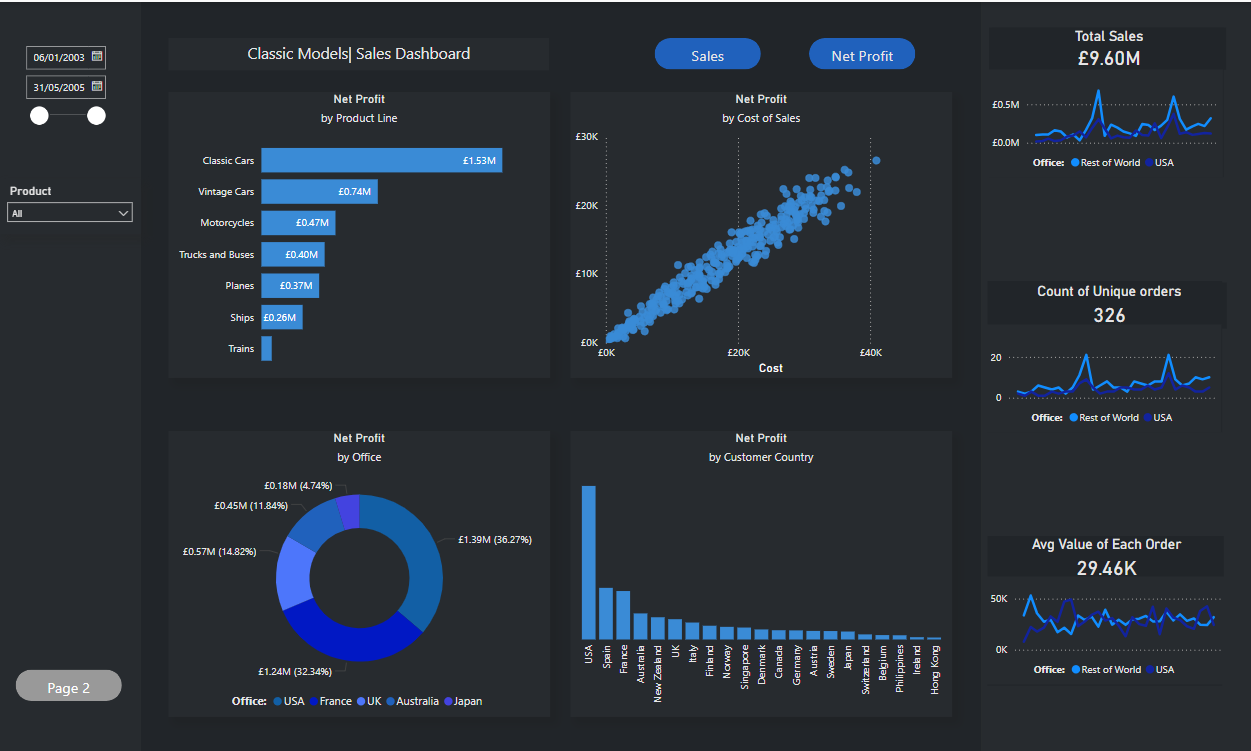

Layout of this report page (visuals, bound fields, positions):
{"tool":"powerbi","page":{"name":"Sales Overview Page 1","canvas":[1500,900],"ordinal":0},"visuals":[{"type":"shape","box":[0,0,170,900],"z":0},{"type":"shape","box":[1177.7,0,322.3,898.8],"z":1000},{"type":"shape","box":[1187,31,281.3,179.4],"z":2000},{"type":"shape","box":[1184.8,640,281.3,179.4],"z":3000},{"type":"shape","box":[1184.8,334.4,281.3,181.6],"z":4000},{"type":"card","title":"Total Sales","fields":{"Values":["Sum(classicmodels sale_data_for_powebi.sales_value)"]},"box":[1190,30.6,280.4,50.3],"z":5000},{"type":"card","title":"Avg Value of Each Order","fields":{"Values":["classicmodels sale_data_for_powebi.Average sales value per order"]},"box":[1187,640,281.3,55.4],"z":6000},{"type":"card","title":"Count of Unique orders","fields":{"Values":["Count(classicmodels sale_data_for_powebi.orderNumber)"]},"box":[1189.2,336.6,281.3,55.4],"z":7000},{"type":"lineChart","fields":{"Y":["Sum(classicmodels sale_data_for_powebi.sales_value)"],"Category":["classicmodels sale_data_for_powebi.orderDate.Variation.Date Hierarchy.Year","classicmodels sale_data_for_powebi.orderDate.Variation.Date Hierarchy.Quarter","classicmodels sale_data_for_powebi.orderDate.Variation.Date Hierarchy.Month"],"Series":["classicmodels sale_data_for_powebi.Office Grouped"]},"box":[1184.6,80.9,282.2,129.4],"z":8000},{"type":"lineChart","fields":{"Category":["classicmodels sale_data_for_powebi.orderDate.Variation.Date Hierarchy.Year","classicmodels sale_data_for_powebi.orderDate.Variation.Date Hierarchy.Quarter","classicmodels sale_data_for_powebi.orderDate.Variation.Date Hierarchy.Month"],"Series":["classicmodels sale_data_for_powebi.Office Grouped"],"Y":["Count(classicmodels sale_data_for_powebi.orderNumber)"]},"box":[1182.8,386.5,282.2,129.4],"z":9000},{"type":"lineChart","fields":{"Category":["classicmodels sale_data_for_powebi.orderDate.Variation.Date Hierarchy.Year","classicmodels sale_data_for_powebi.orderDate.Variation.Date Hierarchy.Quarter","classicmodels sale_data_for_powebi.orderDate.Variation.Date Hierarchy.Month"],"Series":["classicmodels sale_data_for_powebi.Office Grouped"],"Y":["classicmodels sale_data_for_powebi.Average sales value per order"]},"box":[1182.8,688.5,287.6,129.4],"z":10000},{"type":"clusteredBarChart","fields":{"Y":["Table.Selected Metric"],"Category":["classicmodels sale_data_for_powebi.productLine"]},"box":[202.4,107.1,457.1,342.9],"z":11000},{"type":"actionButton","title":"sales","box":[785.6,43.1,127.6,37.8],"z":12000},{"type":"actionButton","title":"sales","box":[970.7,43.1,127.6,37.8],"z":13000},{"type":"scatterChart","fields":{"X":["Sum(classicmodels sale_data_for_powebi.cost_of_sales)"],"Y":["Table.Selected Metric"],"Category":["classicmodels sale_data_for_powebi.orderNumber"]},"box":[685.7,107.1,457.1,342.9],"z":15000},{"type":"donutChart","fields":{"Y":["Table.Selected Metric"],"Category":["classicmodels sale_data_for_powebi.office_country"]},"box":[202.4,514.3,457.1,342.9],"z":16000},{"type":"columnChart","fields":{"Y":["Table.Selected Metric"],"Category":["classicmodels sale_data_for_powebi.customer_country"]},"box":[685.7,514.3,457.1,342.9],"z":17000},{"type":"textbox","box":[203,42.5,456.2,38.7],"z":18000},{"type":"actionButton","title":"sales","box":[19.8,800,127.6,37.8],"z":19000},{"type":"slicer","fields":{"Values":["classicmodels sale_data_for_powebi.orderDate"]},"box":[20,44,118,138],"z":20000},{"type":"slicer","fields":{"Values":["classicmodels sale_data_for_powebi.productName"]},"box":[0,212,170,66],"z":20001}]}

Visuals, with their boxes in screenshot pixels (x1, y1, x2, y2), scaled from the page's 1500x900 canvas onto the 1251x751 screenshot:
shape: l=0, t=0, r=142, b=750
shape: l=982, t=0, r=1250, b=750
shape: l=990, t=26, r=1225, b=176
shape: l=988, t=534, r=1223, b=684
shape: l=988, t=279, r=1223, b=431
"Total Sales" card: l=992, t=26, r=1226, b=68
"Avg Value of Each Order" card: l=990, t=534, r=1225, b=580
"Count of Unique orders" card: l=992, t=281, r=1226, b=327
lineChart - Sum(classicmodels sale_data_for_powebi.sales_value) x classicmodels sale_data_for_powebi.orderDate.Variation.Date Hierarchy.Year: l=988, t=68, r=1223, b=175
lineChart - classicmodels sale_data_for_powebi.orderDate.Variation.Date Hierarchy.Year x classicmodels sale_data_for_powebi.orderDate.Variation.Date Hierarchy.Quarter: l=986, t=323, r=1222, b=430
lineChart - classicmodels sale_data_for_powebi.orderDate.Variation.Date Hierarchy.Year x classicmodels sale_data_for_powebi.orderDate.Variation.Date Hierarchy.Quarter: l=986, t=575, r=1226, b=682
clusteredBarChart - Table.Selected Metric x classicmodels sale_data_for_powebi.productLine: l=169, t=89, r=550, b=376
"sales" actionButton: l=655, t=36, r=762, b=68
"sales" actionButton: l=810, t=36, r=916, b=68
scatterChart - Sum(classicmodels sale_data_for_powebi.cost_of_sales) x Table.Selected Metric: l=572, t=89, r=953, b=376
donutChart - Table.Selected Metric x classicmodels sale_data_for_powebi.office_country: l=169, t=429, r=550, b=715
columnChart - Table.Selected Metric x classicmodels sale_data_for_powebi.customer_country: l=572, t=429, r=953, b=715
textbox: l=169, t=35, r=550, b=68
"sales" actionButton: l=17, t=668, r=123, b=699
slicer - classicmodels sale_data_for_powebi.orderDate: l=17, t=37, r=115, b=152
slicer - classicmodels sale_data_for_powebi.productName: l=0, t=177, r=142, b=232
